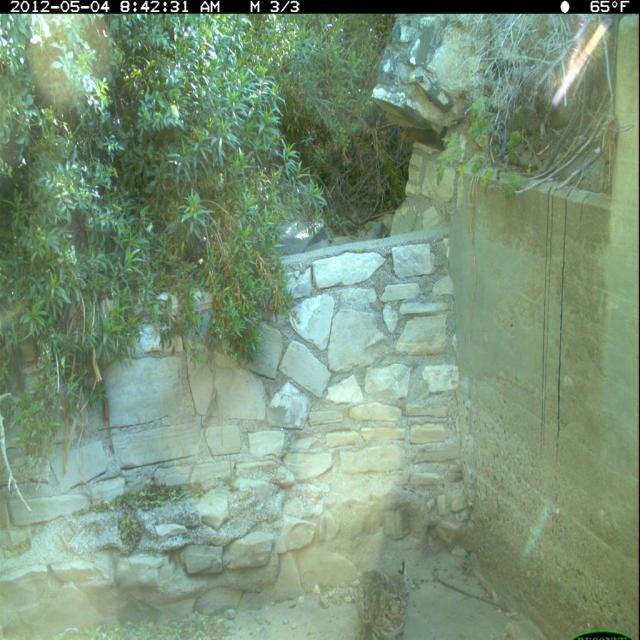bobcat: (345, 552, 416, 640)
